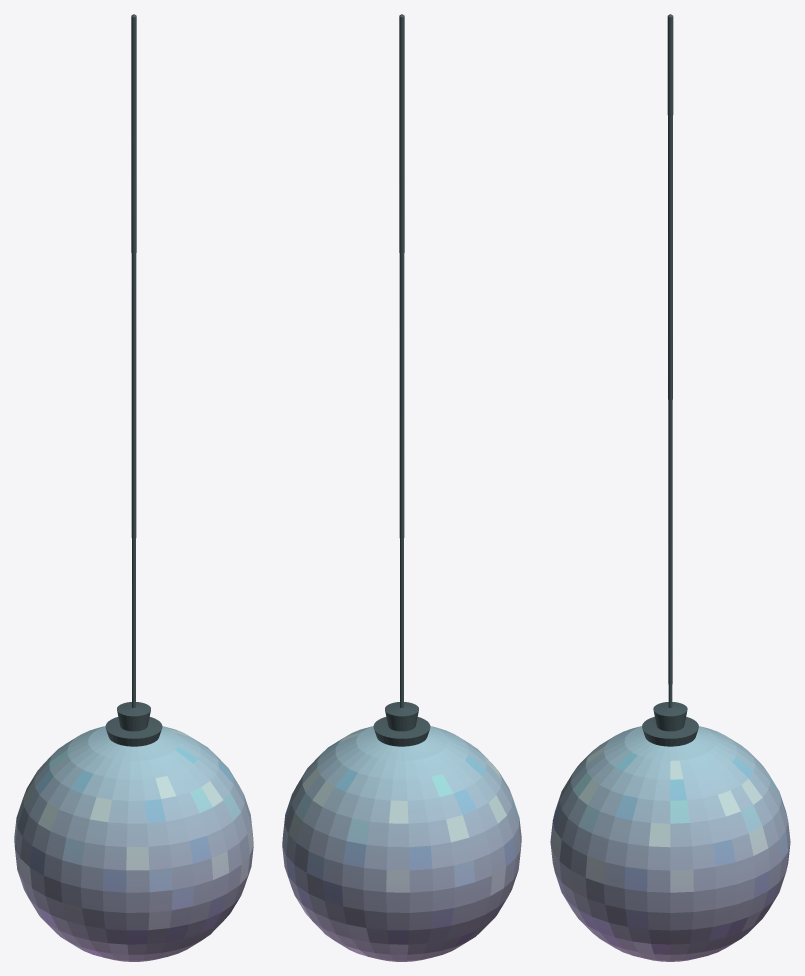
File: Disco.fbx
The picture shows the model from 3 angles, left to right: view 1: azimuth 30°, elevation 25°; view 2: azimuth 150°, elevation 25°; view 3: azimuth 270°, elevation 25°; orthographic projection.
Parts seen in each view (by area): view 1: Disco; view 2: Disco; view 3: Disco.
Boxes of the visible parts, x1,y1,x2,y2 form: Disco: (14,14,253,961); Disco: (282,14,521,961); Disco: (550,14,790,961).
Bounding box in the file's own units: 2 × 8.61 × 2.
